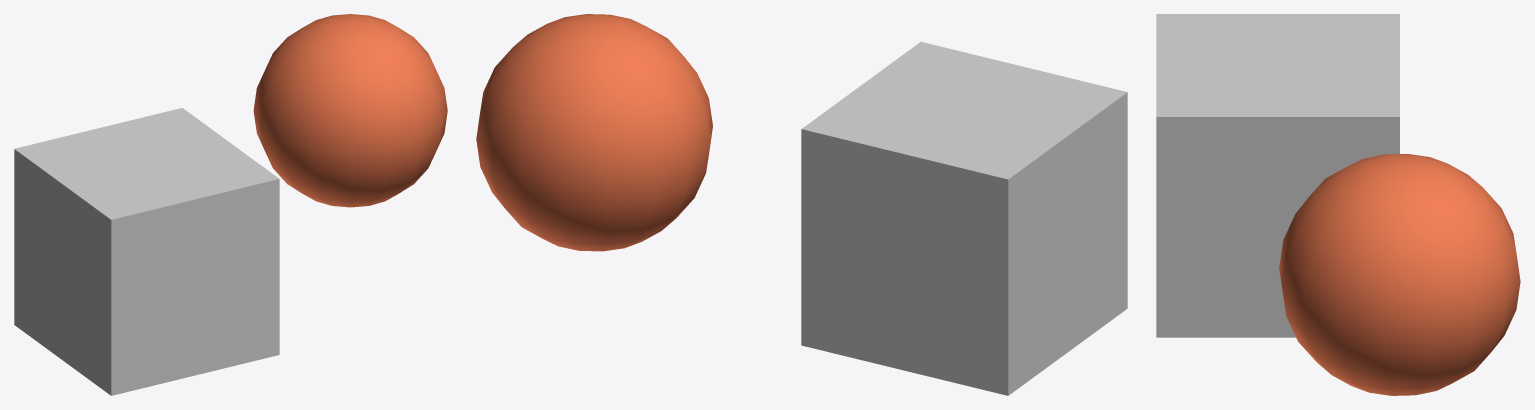
File: scene-editor-two-objects.glb
3 views of the same model, side by side, from view 1: azimuth 30°, elevation 25°; view 2: azimuth 150°, elevation 25°; view 3: azimuth 270°, elevation 25° (orthographic). The views are drawn at different scales.
Bounding box in the file's own units: 2.5 × 1.25 × 1.5.
